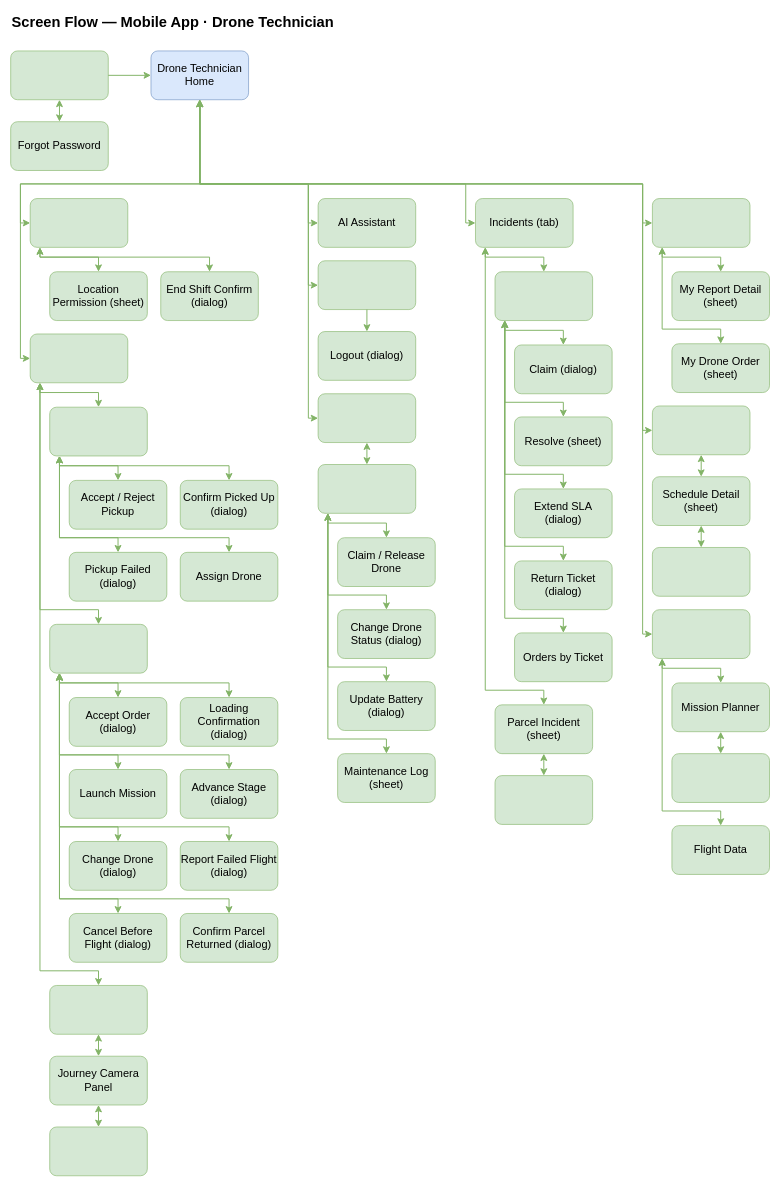
Image size: 780x1186. Some labels were removed from this diagram. The shapes that lost their labels are listed below. From the top down, each one's centre as x and y in pixels, then its label:
At pixel 59 75: "Login Screen".
At pixel 79 222: "Shift Card (Start / End)".
At pixel 701 222: "My Tasks (tab)".
At pixel 367 285: "Technician Profile".
At pixel 543 296: "Drone Report Detail (sheet)".
At pixel 79 358: "Dispatch (tab)".
At pixel 98 431: "Home Pickup Queue".
At pixel 367 418: "Fleet (tab)".
At pixel 701 430: "Periodic (tab)".
At pixel 367 488: "Drone Actions (sheet)".
At pixel 701 571: "Drone Inspection Checklist (sheet)".
At pixel 98 648: "Drone Order Card".
At pixel 701 633: "Flight Tools (tab)".
At pixel 720 777: "Waypoint Edit (sheet)".
At pixel 543 799: "Recovery Detail".
At pixel 98 1009: "Drone Order Detail (sheet)".
At pixel 98 1151: "Report Parcel Drop (dialog)".
